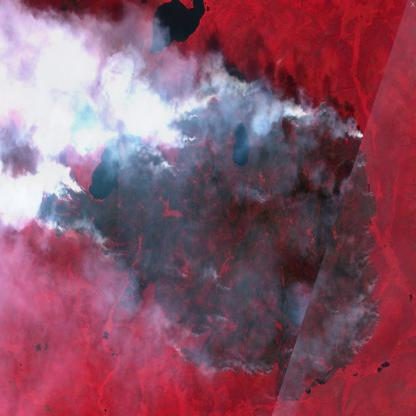fire: (25, 58, 384, 401)
